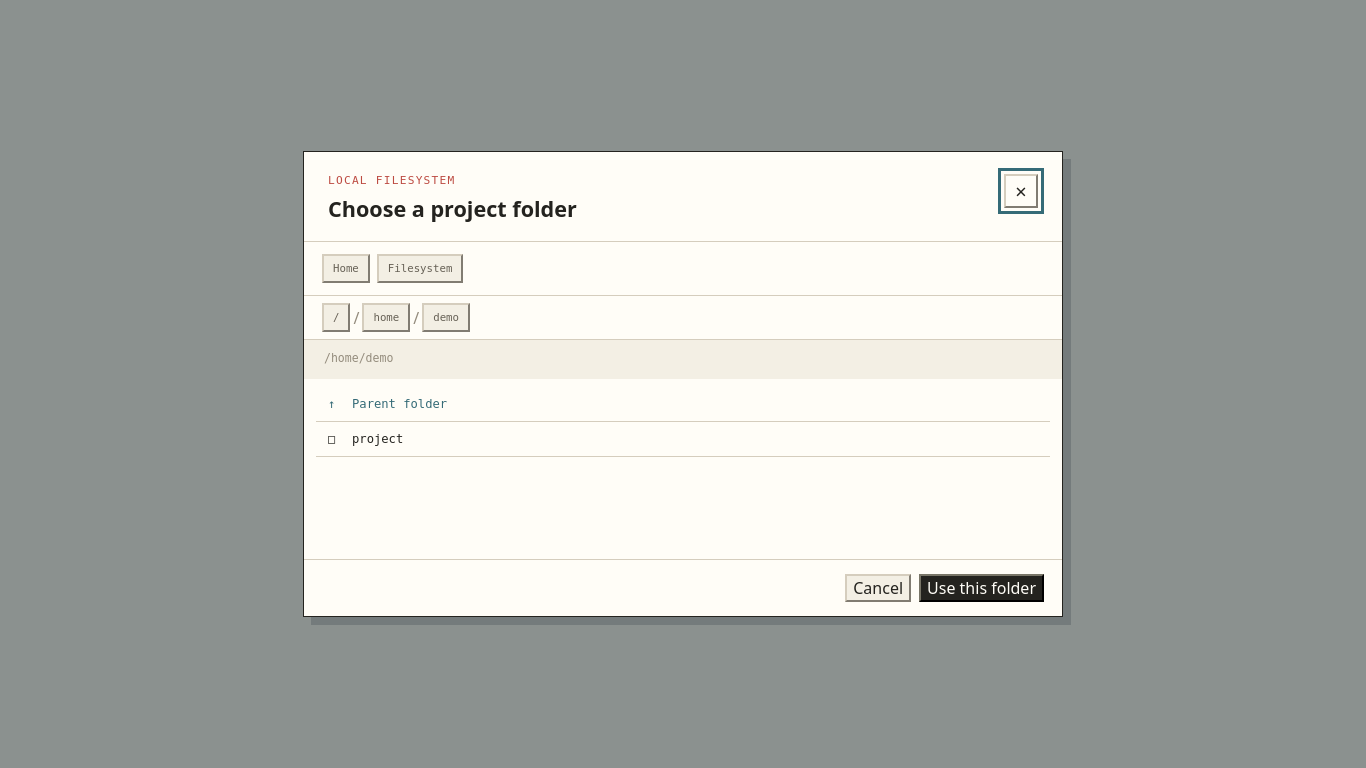
Test: DirectoryBrowserDialog › preserves the last listing and reports a navigation error
This screenshot has width=1366, height=768.
Click the button "□ project" at (378, 439), box [316, 422, 1050, 457]
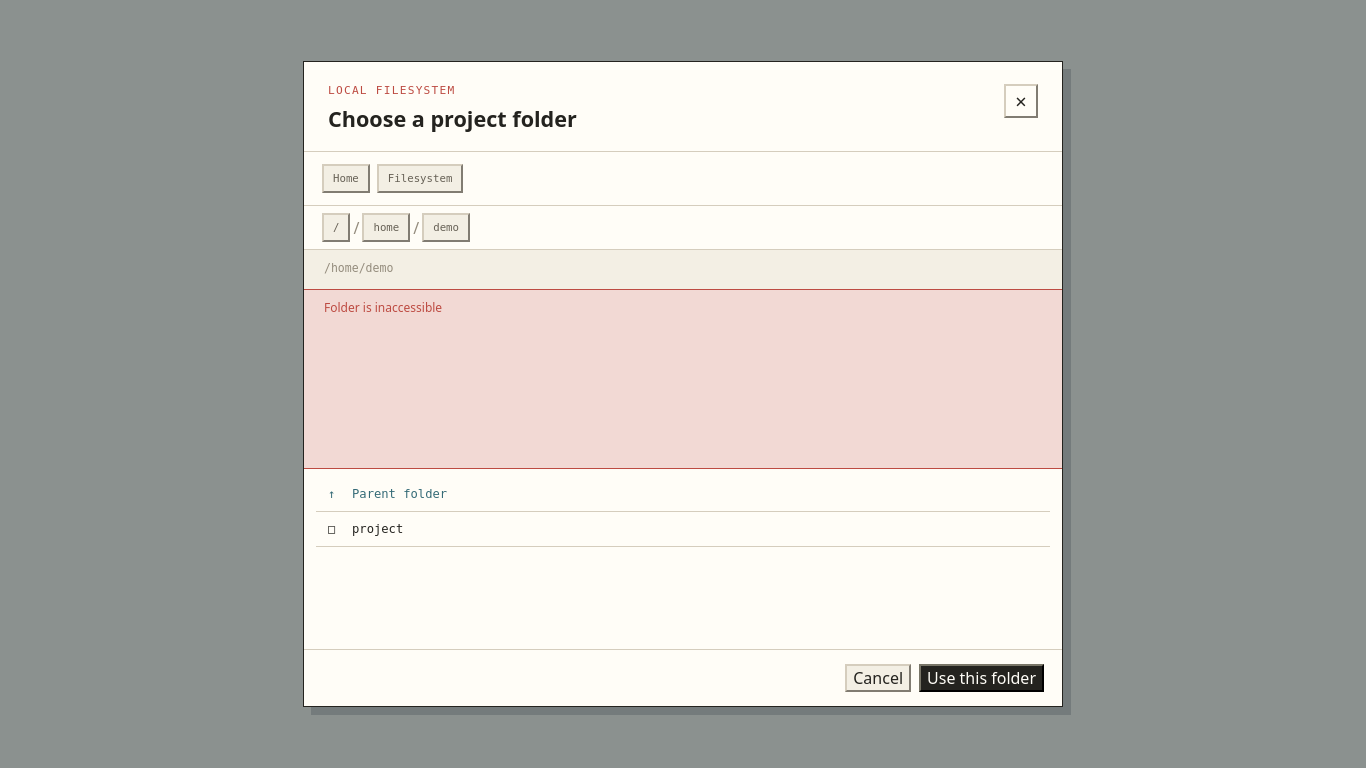
Expected: the text "/home/demo" is shown, [324, 261, 393, 275]
Now the message reads "Folder is inaccessible", box [324, 299, 442, 316]
